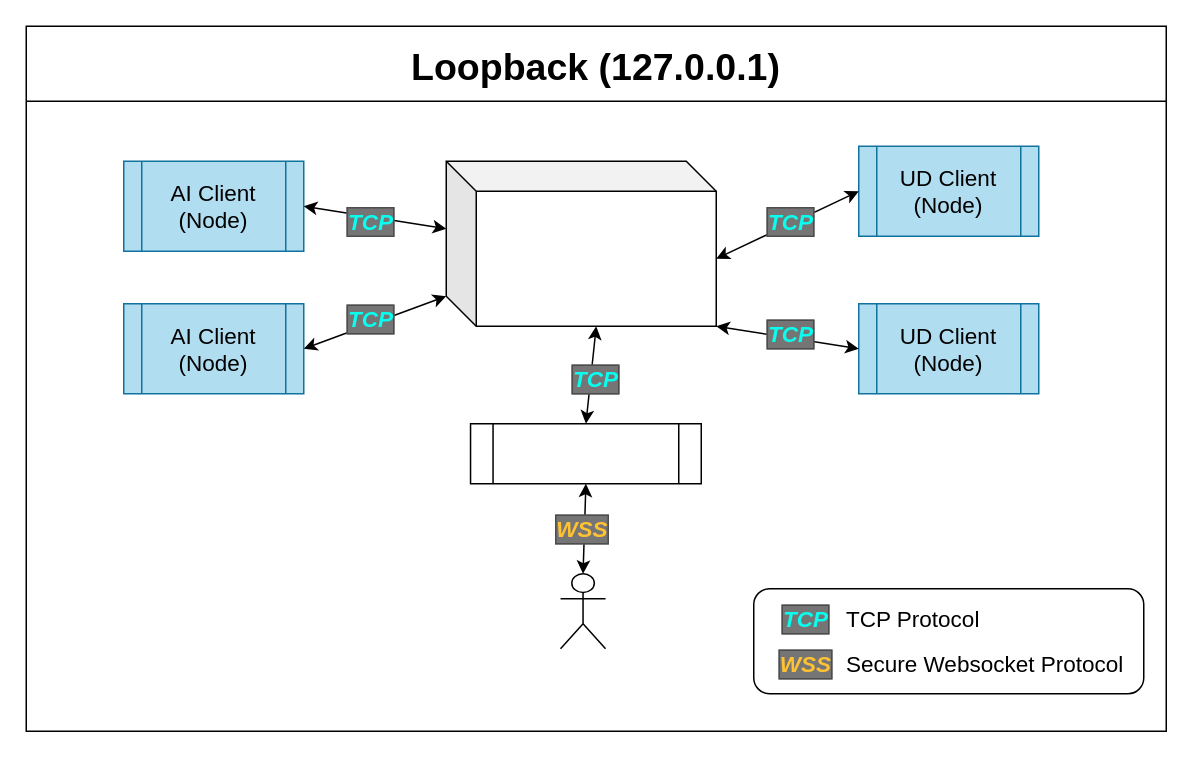
Some shapes in this 1193 by 758 pixel diagram are drawn without their labels. The shapes that lost their labels are listed below. From the top down, each one's centre as x and y in pixels, then its label:
At (x=580, y=243): "Astron Cluster (astrond.exe)".
At (x=585, y=453): "Websocket Proxy".
At (x=582, y=610): "Browser Client".
